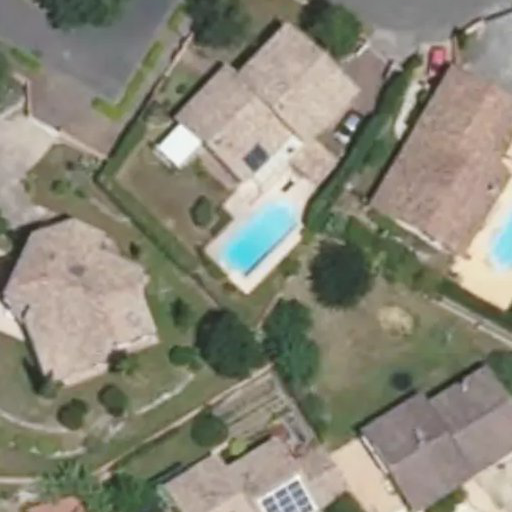pool: (224, 206, 297, 276), (490, 220, 512, 272)
